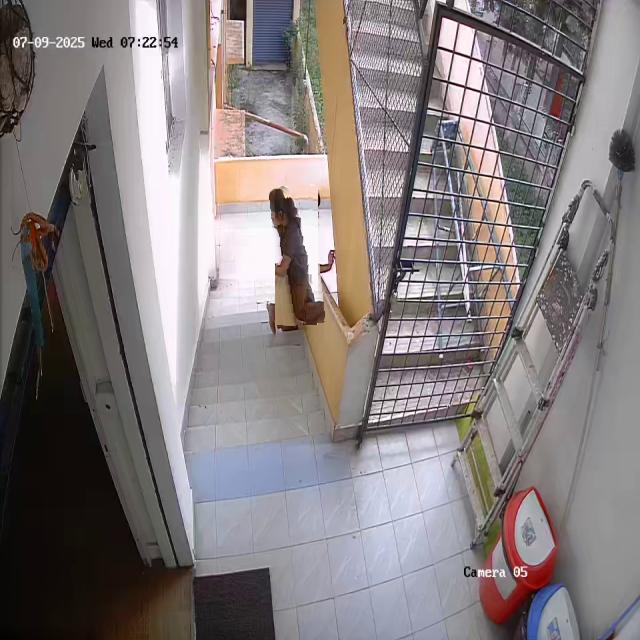person: (272, 185, 322, 326)
